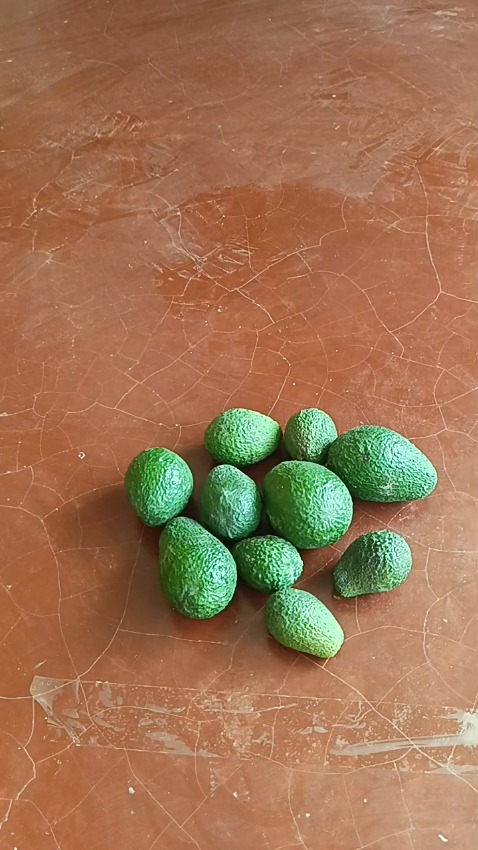Primera: (325, 425, 437, 503), (156, 515, 237, 619), (262, 460, 353, 548)
Segunda: (123, 446, 193, 526)
Tercera: (263, 584, 344, 657), (332, 529, 413, 598), (198, 464, 262, 541), (203, 407, 282, 467), (231, 534, 303, 592), (282, 407, 339, 463)
